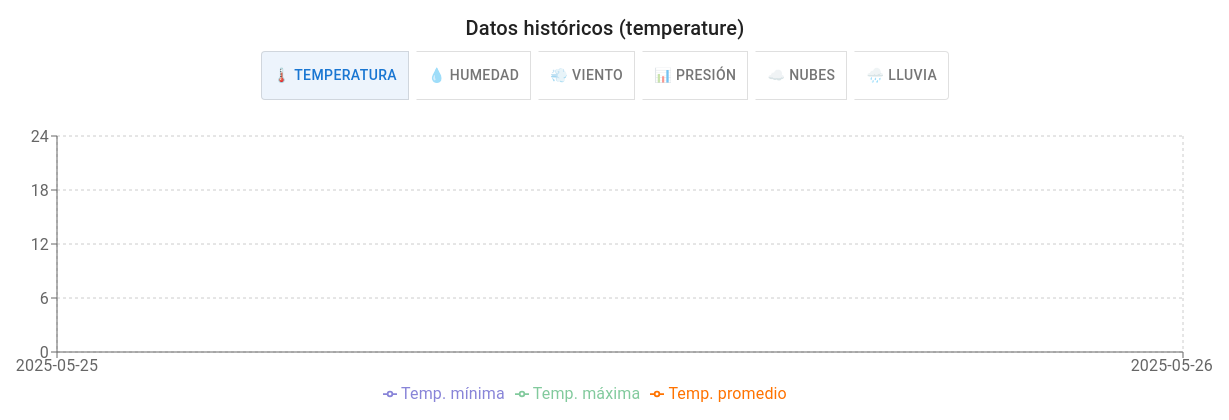
it: WeatherChart › cambia a Viento al hacer click en el botón
Click the button "💨 Viento".
click(587, 75)  # box [538,51,635,100]
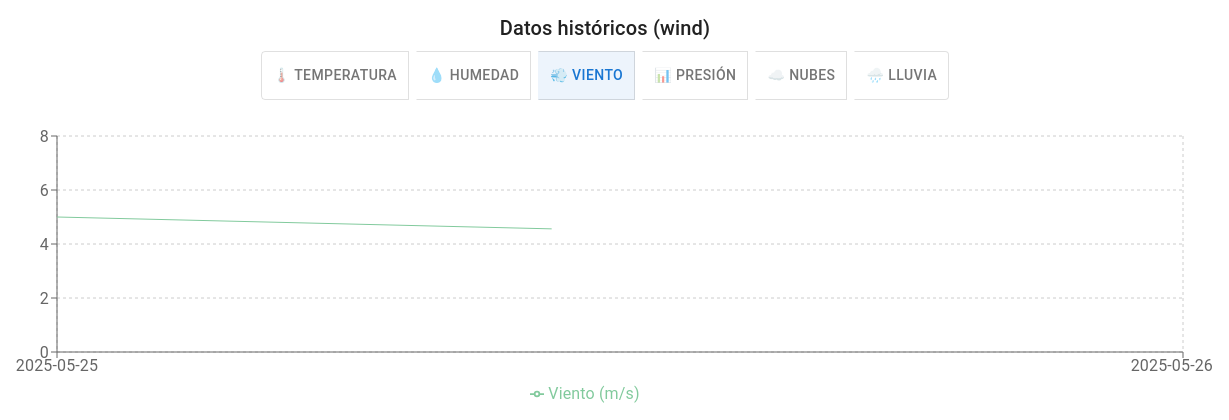
Now the heading "Datos históricos (wind)" is shown, box [500,16,710,40]
